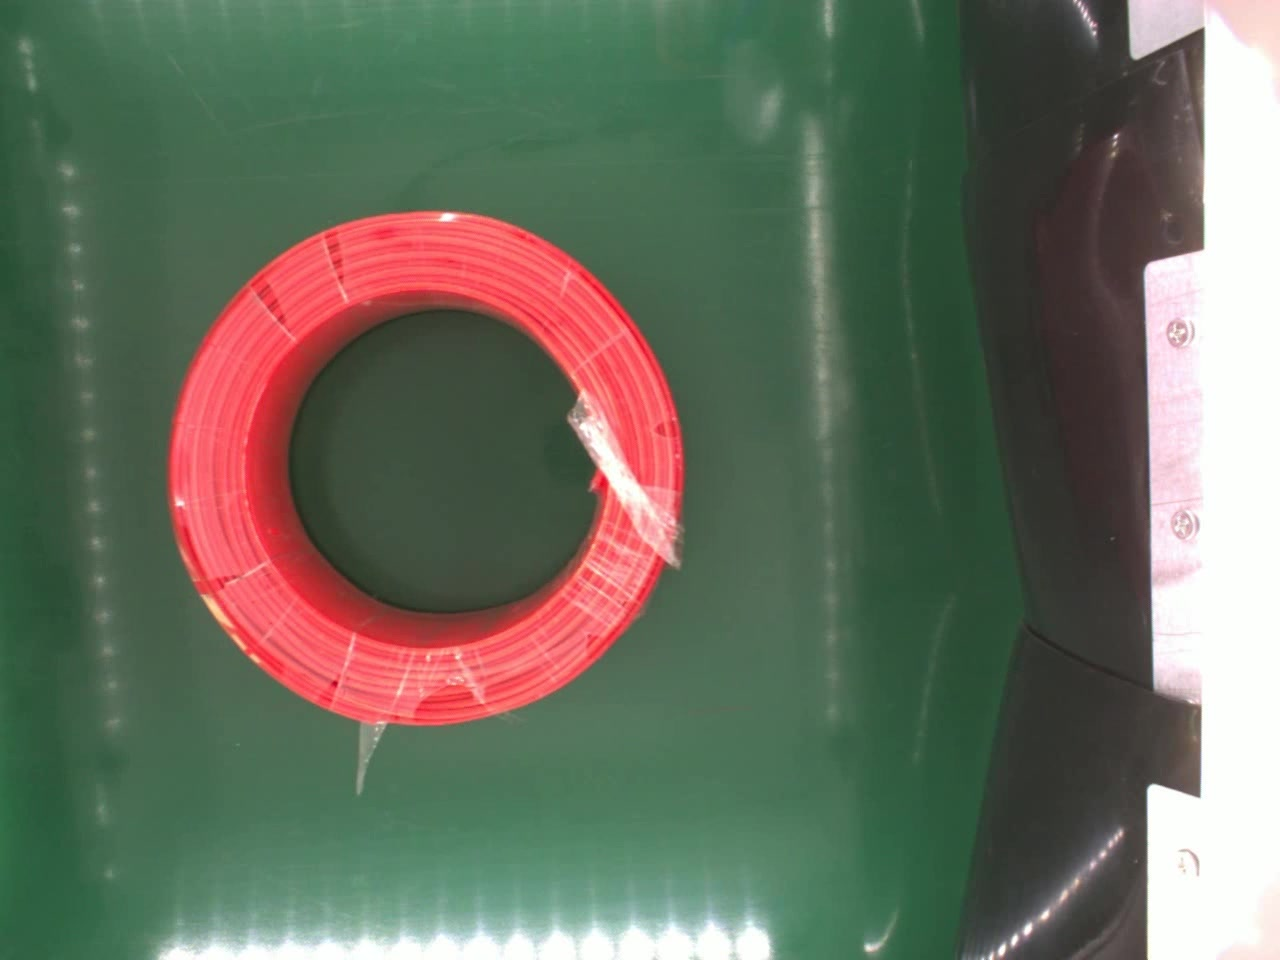red: (165, 209, 684, 727)
